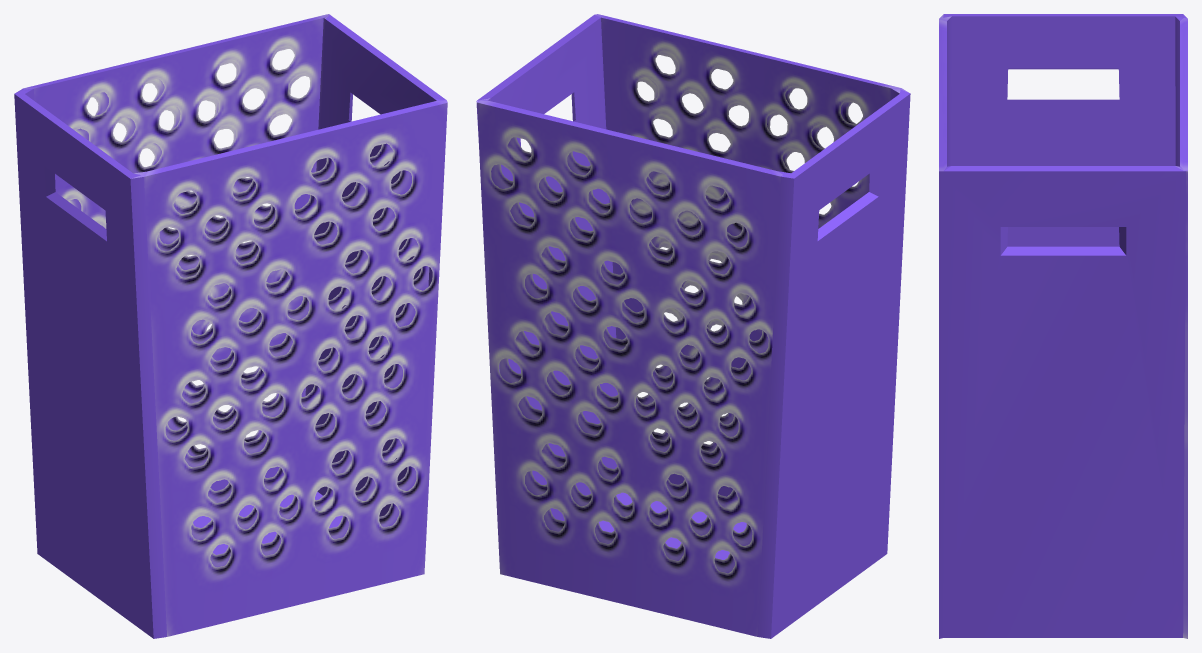
The model's file is Hamper_D.FBX.
3 views of the same model, side by side, from view 1: azimuth 30°, elevation 25°; view 2: azimuth 150°, elevation 25°; view 3: azimuth 270°, elevation 25° (orthographic). The views are drawn at different scales.
Visible parts, largest first — view 1: Hamper; view 2: Hamper; view 3: Hamper.
Part boxes in pixels (left/top/right/bottom): Hamper: left=14, top=14, right=447, bottom=638; Hamper: left=476, top=14, right=910, bottom=638; Hamper: left=939, top=14, right=1187, bottom=638.
Size of the model in its own units: 105 by 148 by 69.41.
